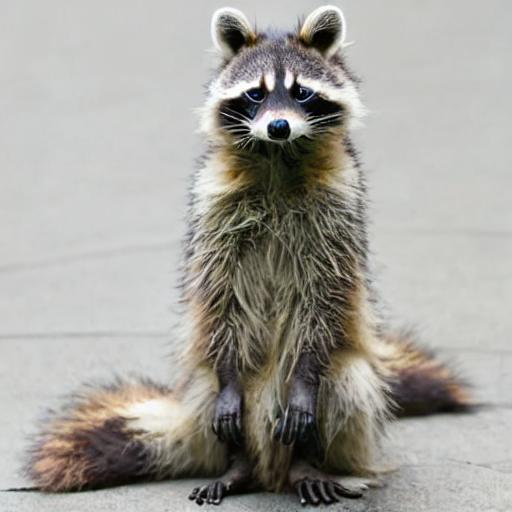raccoon: (32, 2, 397, 492)
